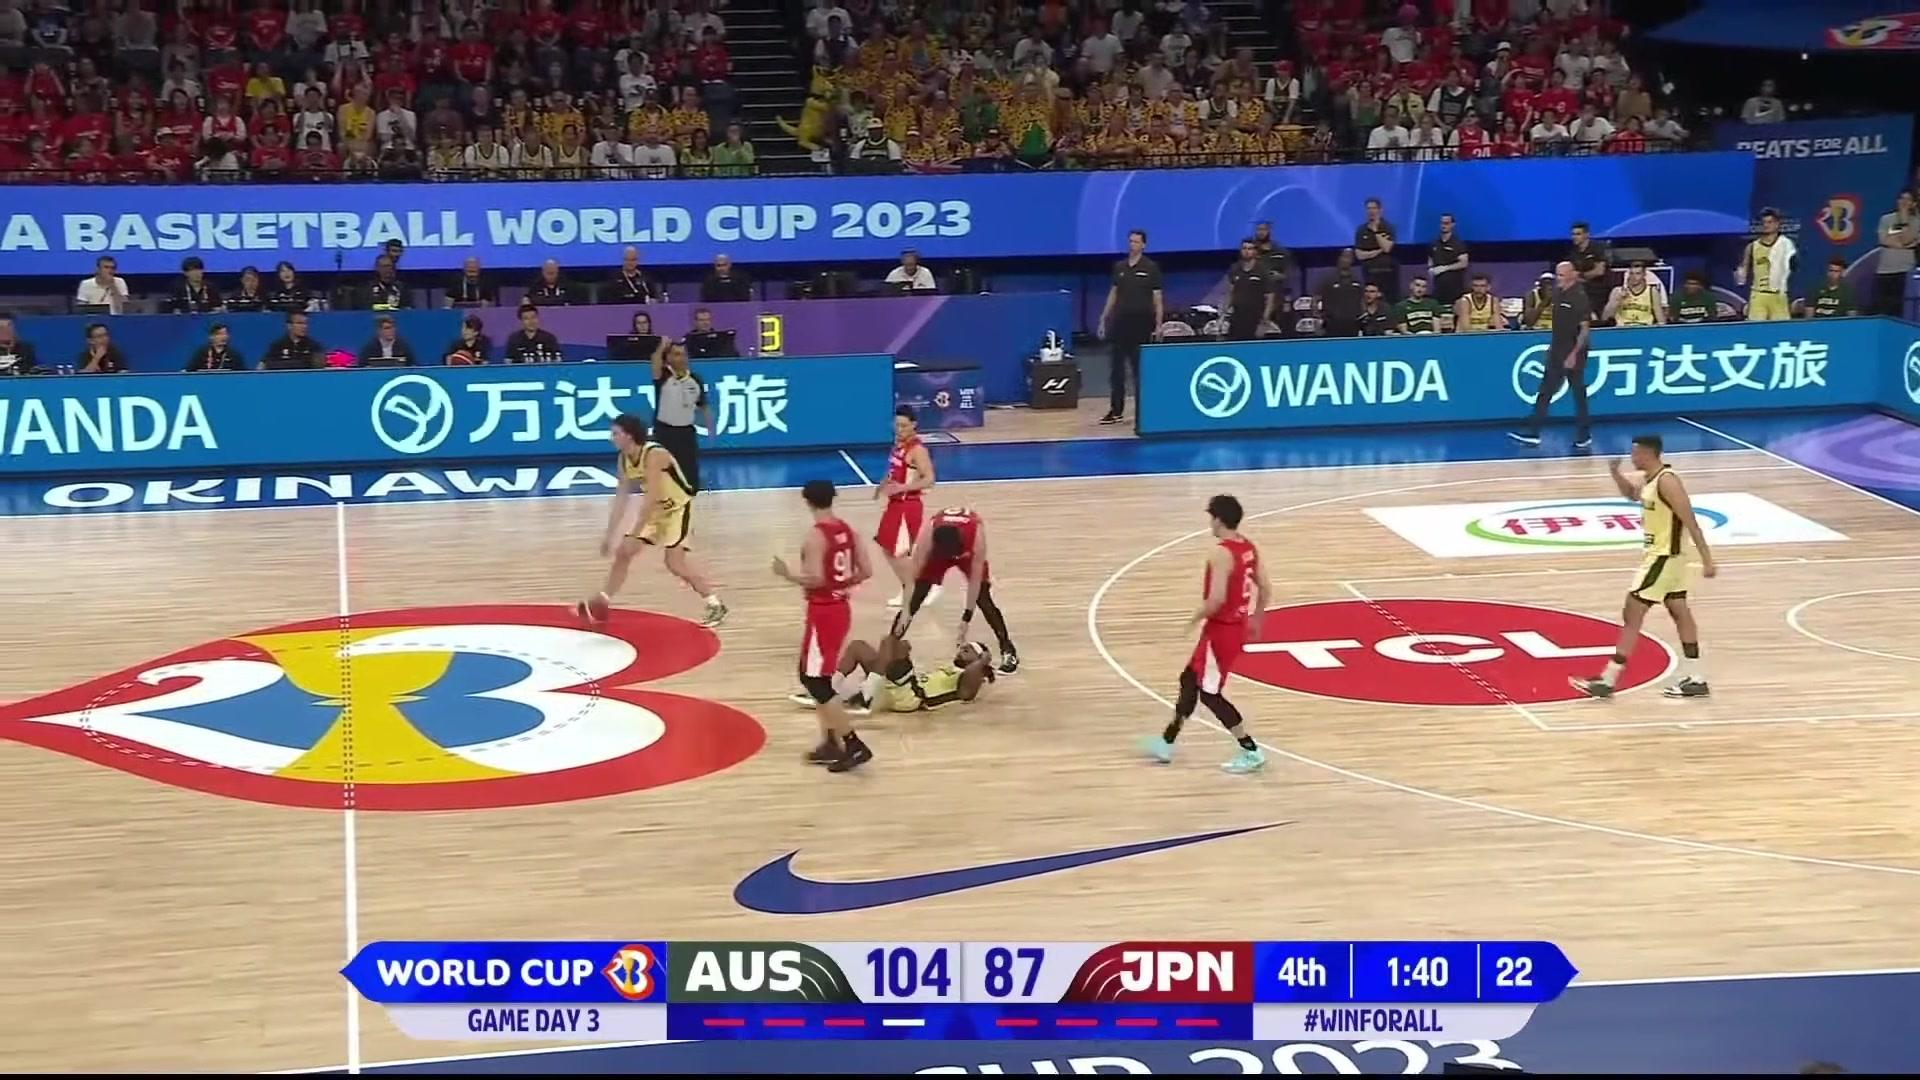foul: (823, 516, 1052, 737)
